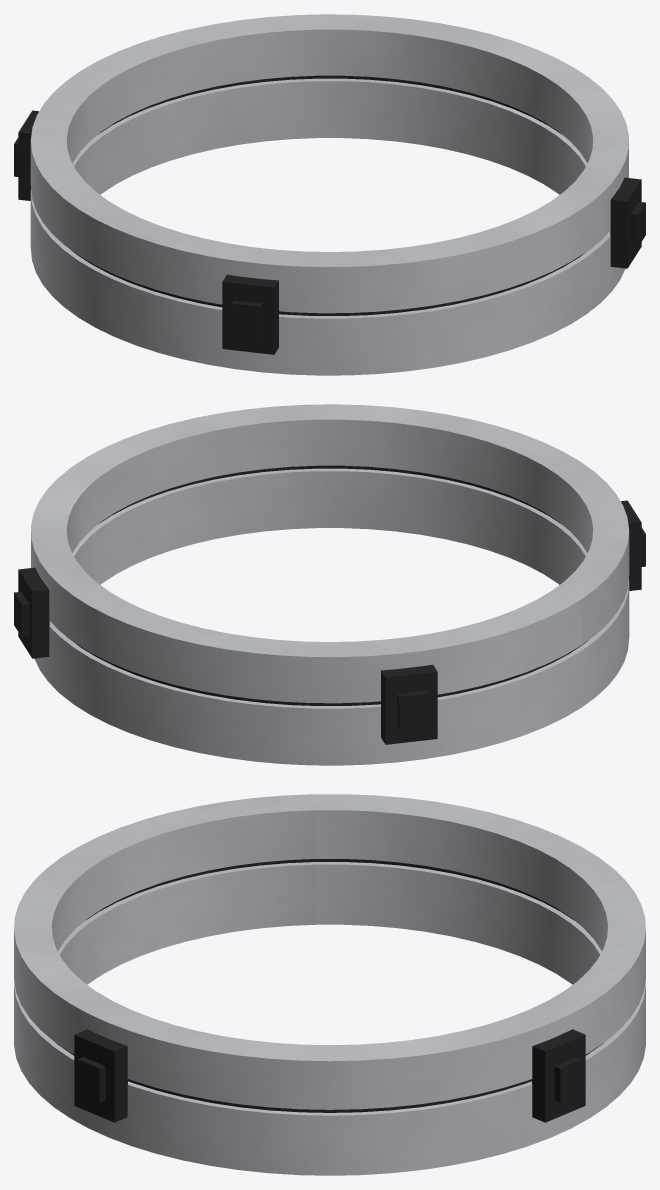
The model's file is stage00_decoupler_s.glb.
3 renders of one model, top to bottom at view 1: azimuth 30°, elevation 25°; view 2: azimuth 150°, elevation 25°; view 3: azimuth 270°, elevation 25°, orthographic. The views are drawn at different scales.
Parts seen in each view (by area): view 1: upper_ring, lower_ring, latches_pushers, sep_joint; view 2: upper_ring, lower_ring, latches_pushers, sep_joint; view 3: upper_ring, lower_ring, latches_pushers, sep_joint.
Part boxes in pixels (<box>): upper_ring: <box>30,14,628,313</box>; lower_ring: <box>30,78,625,375</box>; latches_pushers: <box>14,110,645,354</box>; sep_joint: <box>71,75,593,315</box>; upper_ring: <box>31,404,629,703</box>; lower_ring: <box>34,468,629,765</box>; latches_pushers: <box>14,500,645,744</box>; sep_joint: <box>66,465,588,705</box>; upper_ring: <box>14,794,645,1109</box>; lower_ring: <box>14,862,645,1175</box>; latches_pushers: <box>74,1029,585,1122</box>; sep_joint: <box>55,859,604,1112</box>.
Size of the model in its own units: 1.25 by 0.25 by 1.25.
2 materials, 1 textured.
